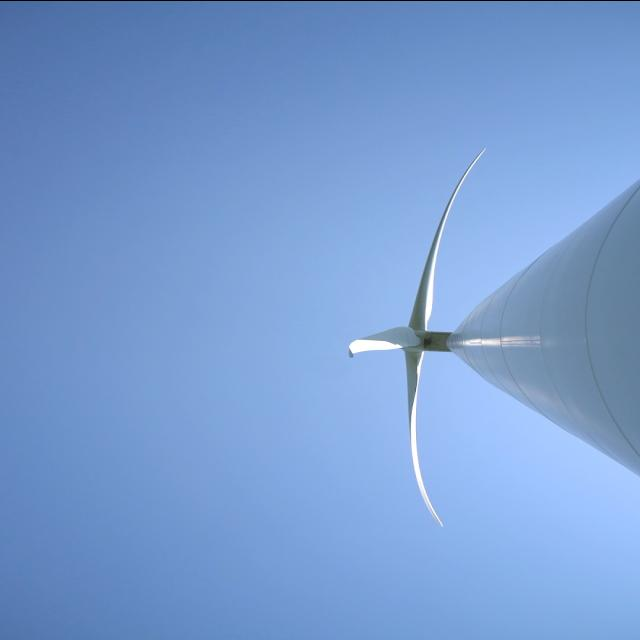blade 1: (332, 302, 392, 356)
blade 2: (402, 140, 498, 262)
blade 3: (371, 358, 458, 540)
